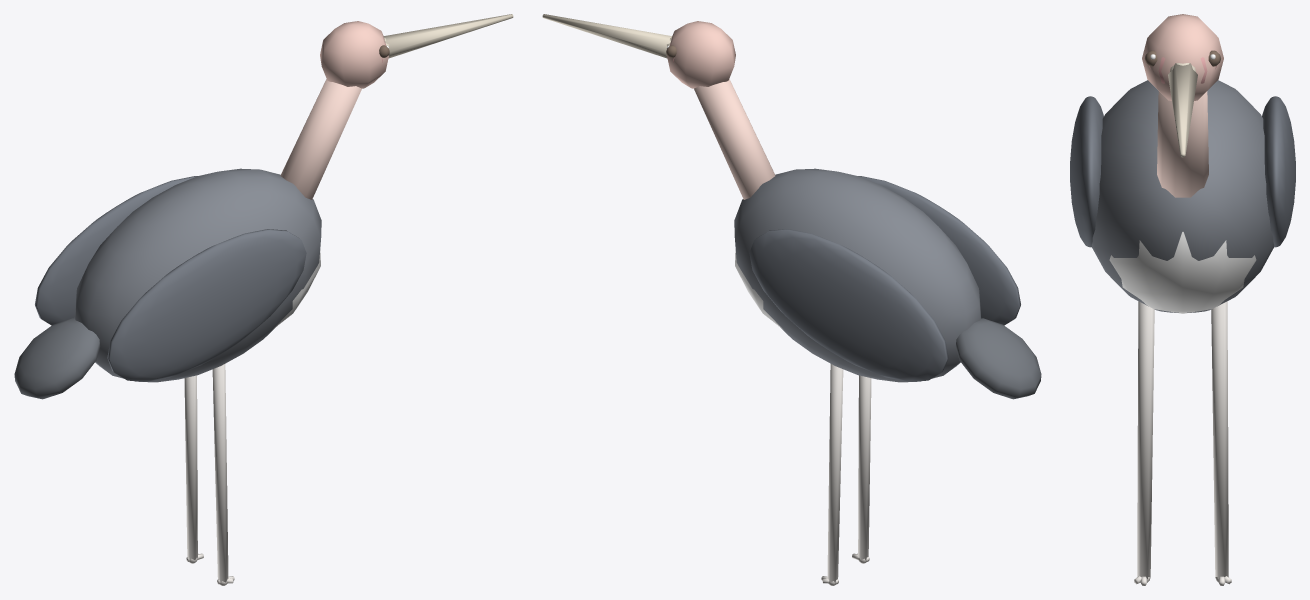
The model's file is marabou-stork.glb.
The picture shows the model from 3 angles, left to right: view 1: azimuth 30°, elevation 25°; view 2: azimuth 150°, elevation 25°; view 3: azimuth 270°, elevation 25°; orthographic projection. The views are drawn at different scales.
Parts seen in each view (by area): view 1: e, e.002, e.011, e.003, e.009, e.005, e.007; view 2: e, e.003, e.011, e.002, e.009, e.007, e.005; view 3: e, e.011, e.005, e.007, e.009, e.002, e.003.
Part boxes in pixels (x1=…): e: x1=14, y1=168, x2=321, y2=399; e.002: x1=107, y1=229, x2=306, y2=381; e.011: x1=320, y1=14, x2=513, y2=88; e.003: x1=35, y1=176, x2=197, y2=325; e.009: x1=280, y1=79, x2=361, y2=199; e.005: x1=212, y1=364, x2=234, y2=585; e.007: x1=184, y1=375, x2=203, y2=563; e: x1=734, y1=168, x2=1041, y2=399; e.003: x1=749, y1=229, x2=948, y2=381; e.011: x1=542, y1=14, x2=735, y2=88; e.002: x1=858, y1=176, x2=1020, y2=325; e.009: x1=694, y1=79, x2=775, y2=199; e.007: x1=821, y1=364, x2=843, y2=585; e.005: x1=852, y1=375, x2=871, y2=563; e: x1=1091, y1=80, x2=1274, y2=313; e.011: x1=1142, y1=14, x2=1223, y2=157; e.005: x1=1134, y1=301, x2=1154, y2=585; e.007: x1=1211, y1=301, x2=1231, y2=585; e.009: x1=1157, y1=91, x2=1208, y2=197; e.002: x1=1070, y1=96, x2=1103, y2=247; e.003: x1=1262, y1=96, x2=1295, y2=247.
Size of the model in its own units: 1.2 by 1.2 by 0.3733.
